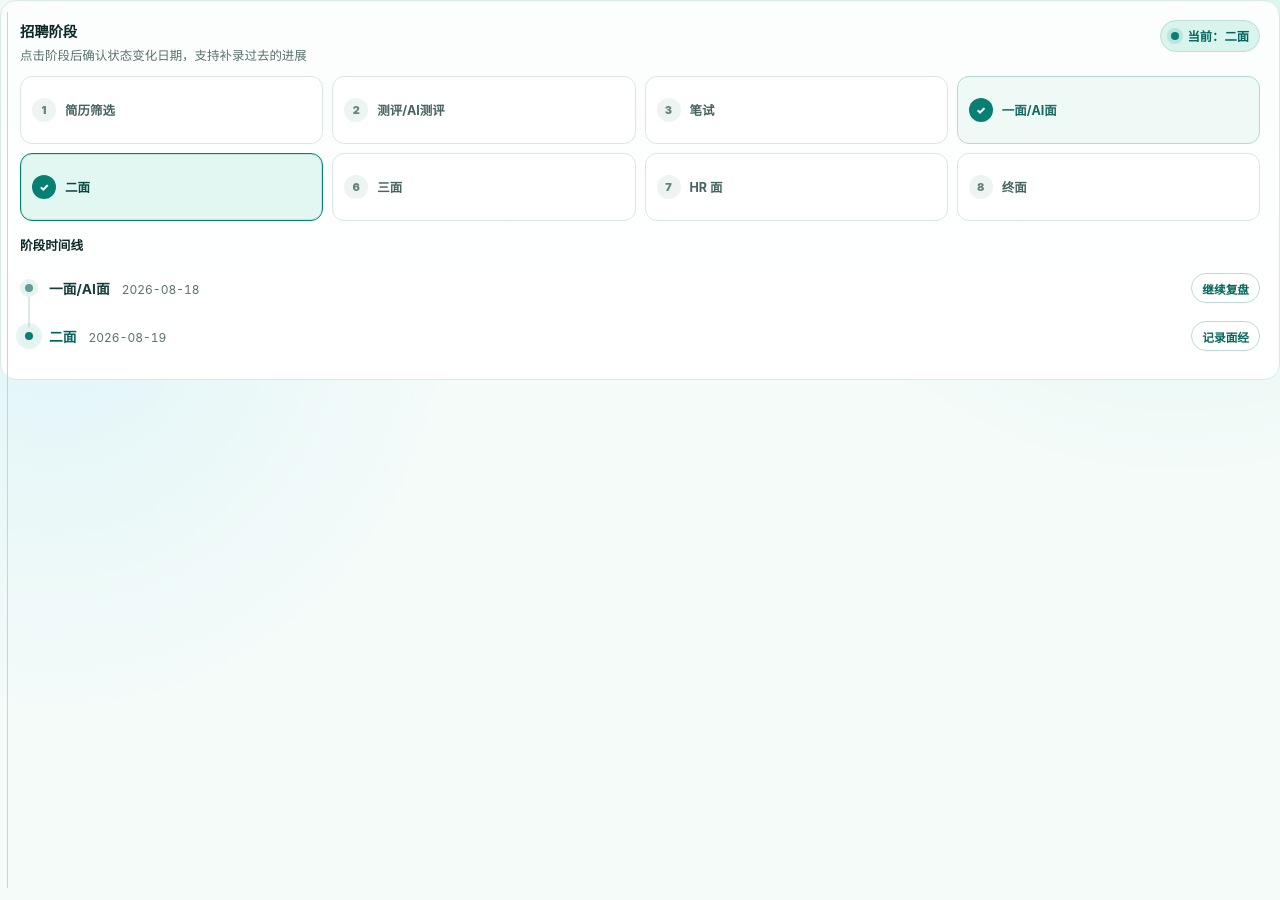
Test: 面经创建闭环 › 阶段时间线区分记录面经和继续复盘
This screenshot has width=1280, height=900.
What coordinates should you click on to do the following:
click the button "记录面经"
I would click on:
 (1226, 336)
Its box is [1191,321,1260,351].
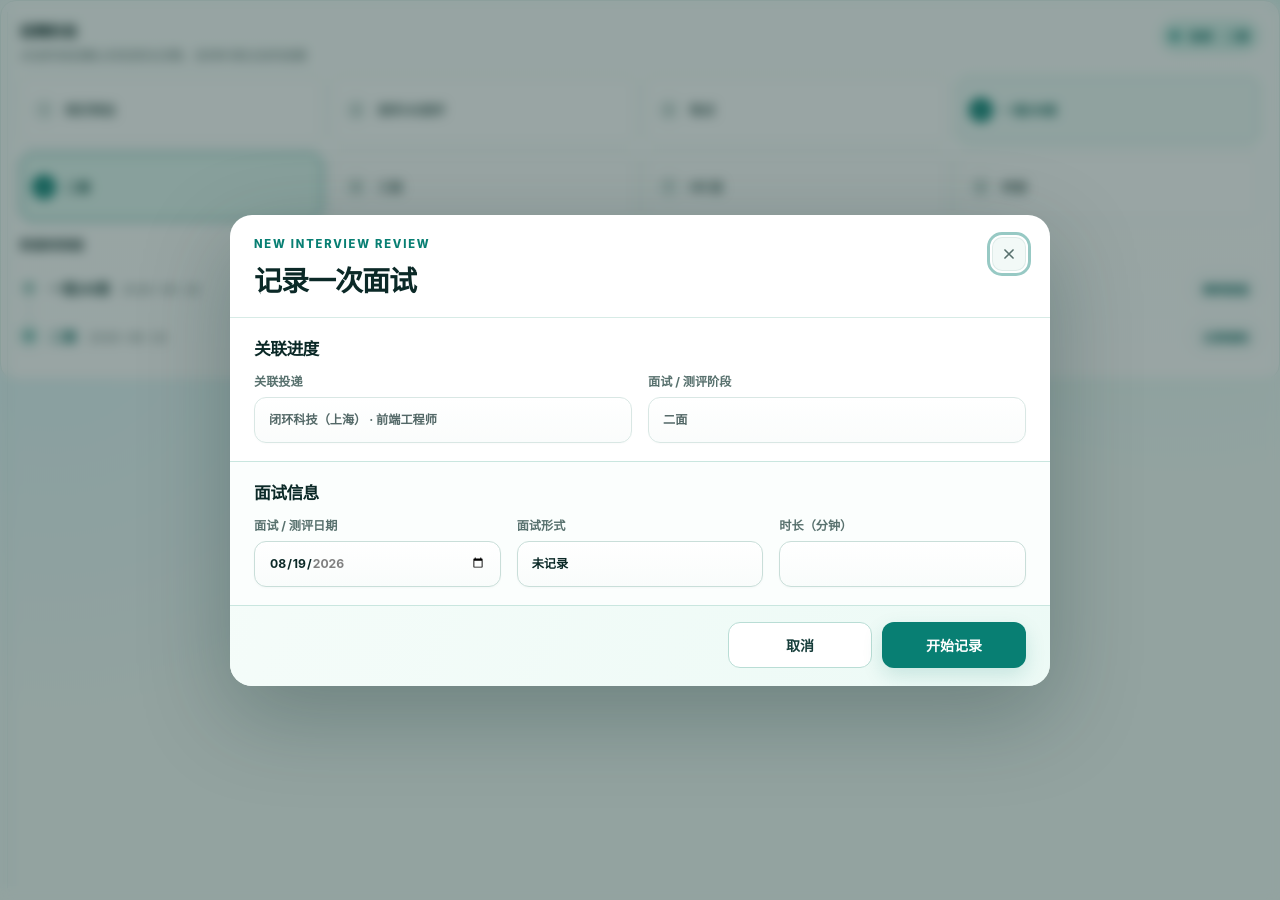
Check: the dialog "记录一次面试" is shown, box [230,214,1050,686]
Check: the dropdown labelled "关联投递" shows "闭环科技（上海） · 前端工程师", box [254,396,632,442]
Check: the dropdown labelled "面试 / 测评阶段" shows "二面", box [648,396,1026,442]
